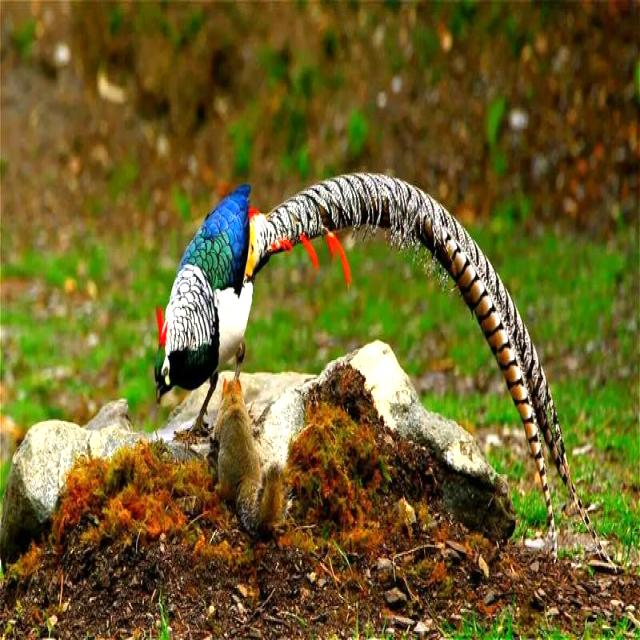Chrysolophus amherstiae: (260, 173, 608, 557)
